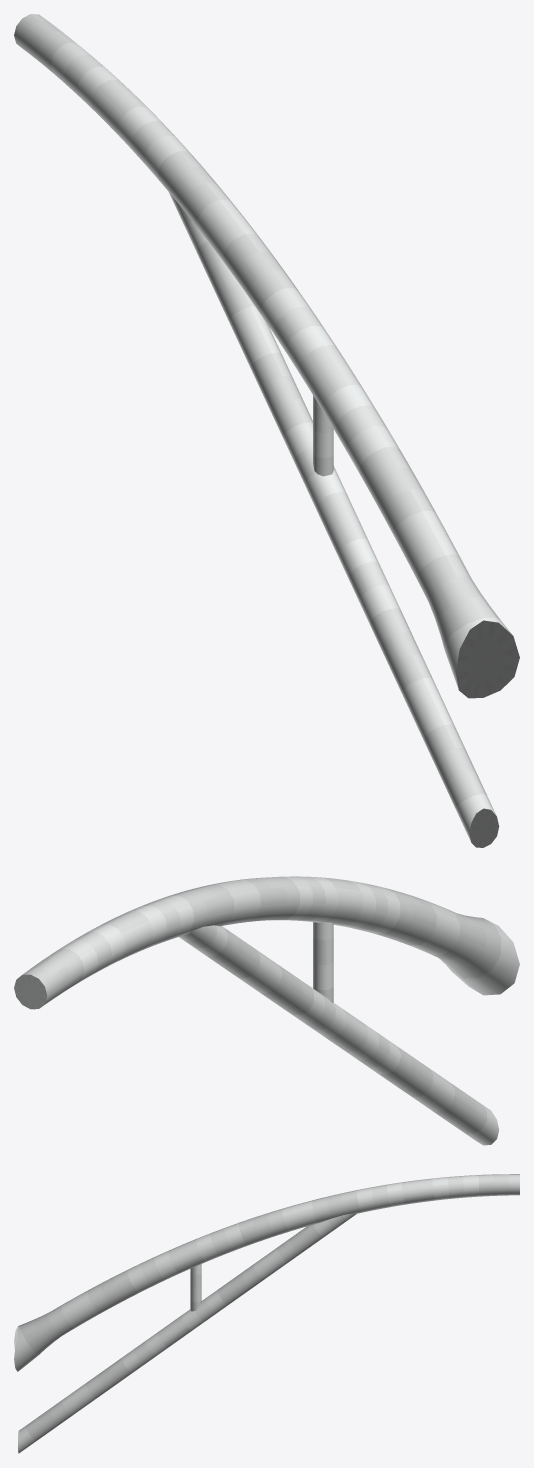
Rendered from luminairearm_truss10ft_inv.obj.
The picture shows the model from 3 angles, top to bottom: view 1: azimuth 30°, elevation 25°; view 2: azimuth 150°, elevation 25°; view 3: azimuth 270°, elevation 25°; orthographic projection. The views are drawn at different scales.
Parts seen in each view (by area): view 1: luminairearm_truss10ft_inv; view 2: luminairearm_truss10ft_inv; view 3: luminairearm_truss10ft_inv.
Part boxes in pixels (left/top/right/bottom): luminairearm_truss10ft_inv: left=14, top=14, right=519, bottom=847; luminairearm_truss10ft_inv: left=14, top=876, right=519, bottom=1145; luminairearm_truss10ft_inv: left=14, top=1174, right=519, bottom=1453.
Bounding box in the file's own units: 0.081 × 0.6063 × 1.
